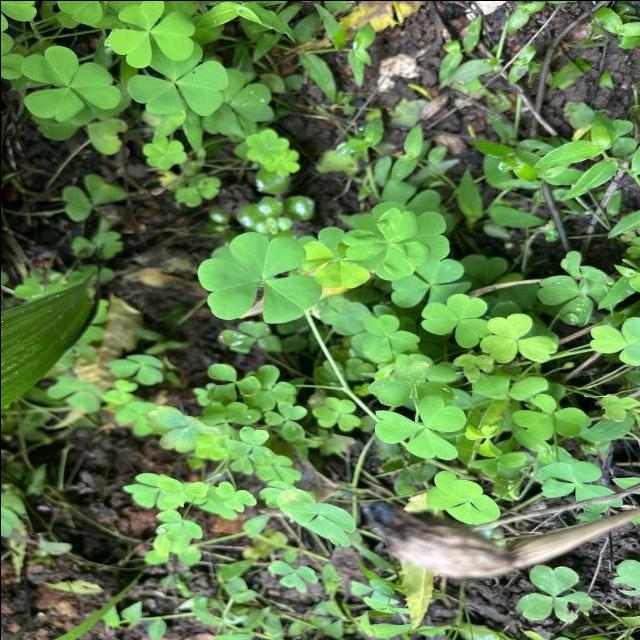Oxalis corniculata: (195, 230, 322, 324), (19, 44, 122, 122), (338, 206, 431, 276), (106, 0, 196, 69), (373, 393, 464, 460), (125, 61, 228, 117), (424, 469, 499, 529), (538, 460, 622, 512), (366, 359, 454, 406), (478, 312, 558, 363), (419, 292, 489, 348), (510, 392, 588, 440), (359, 313, 419, 360), (154, 476, 207, 507), (214, 480, 256, 512)
